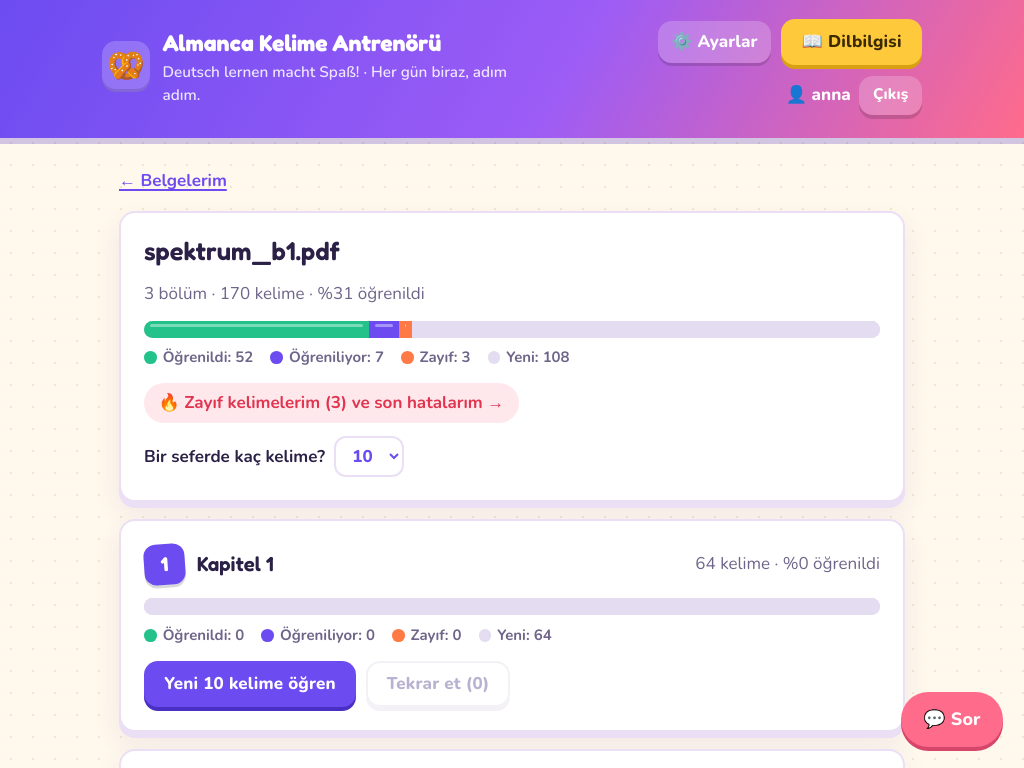
Test: DocumentPage › shows why a batch could not start
What coordinates should you click on to do the following:
click the button "Yeni 10 kelime öğren"
I would click on:
 (250, 684)
Its box is x1=144 y1=661 x2=356 y2=707.
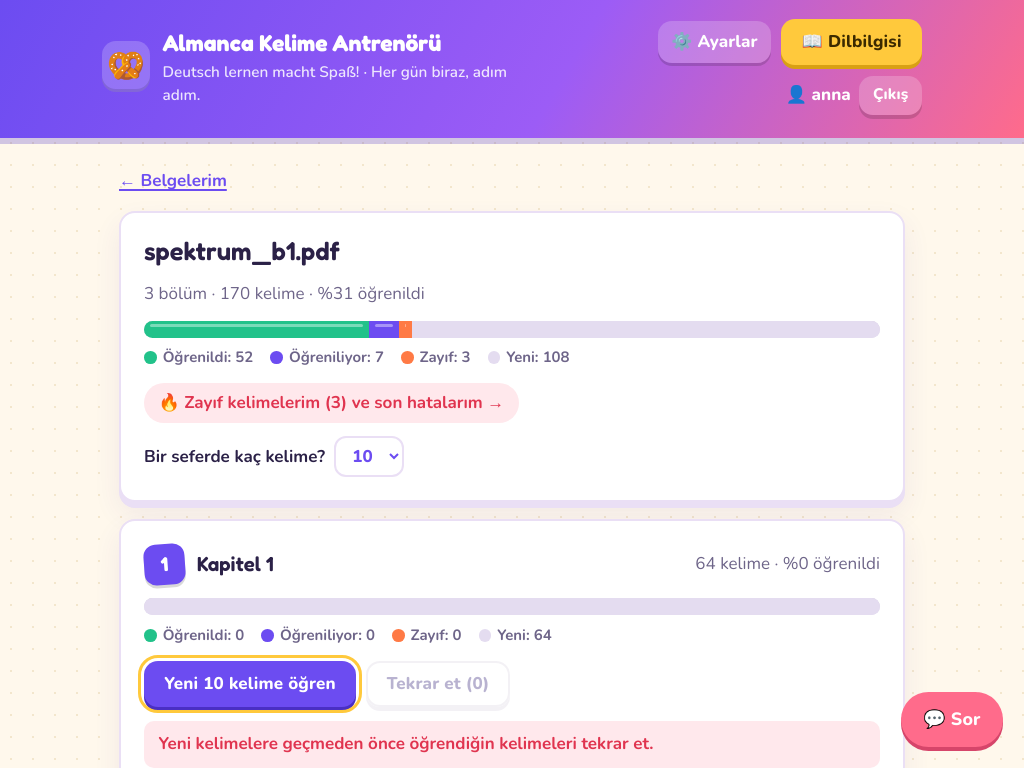
Expected: the message shows "tekrar et", x1=158 y1=732 x2=654 y2=755
